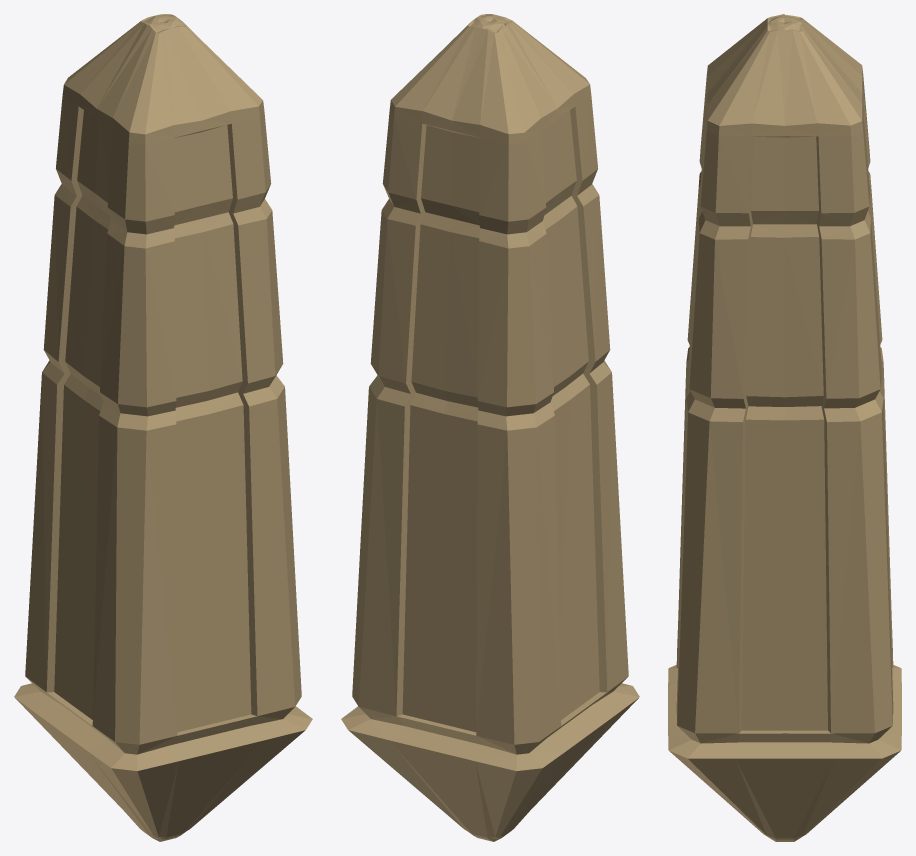
The model's file is Floating_Obelisk_Koltz_V1.fbx.
The picture shows the model from 3 angles, left to right: view 1: azimuth 30°, elevation 25°; view 2: azimuth 150°, elevation 25°; view 3: azimuth 270°, elevation 25°; orthographic projection.
Visible parts, largest first — view 1: Floating_Obelisk_1; view 2: Floating_Obelisk_1; view 3: Floating_Obelisk_1.
Boxes of the visible parts, box(x1,y1,x2,y2) form: Floating_Obelisk_1: box(14, 14, 312, 841); Floating_Obelisk_1: box(341, 14, 639, 841); Floating_Obelisk_1: box(668, 14, 901, 841).
Size of the model in its own units: 4.5 by 17.35 by 4.5.
